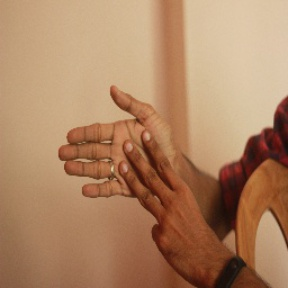M: (55, 83, 193, 221)
